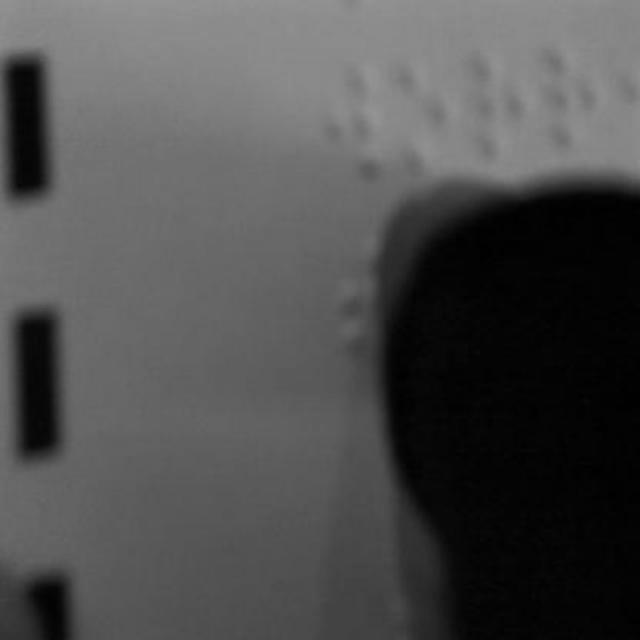braiile: (540, 34, 612, 170), (392, 47, 464, 176), (321, 46, 385, 186), (466, 38, 530, 172)
